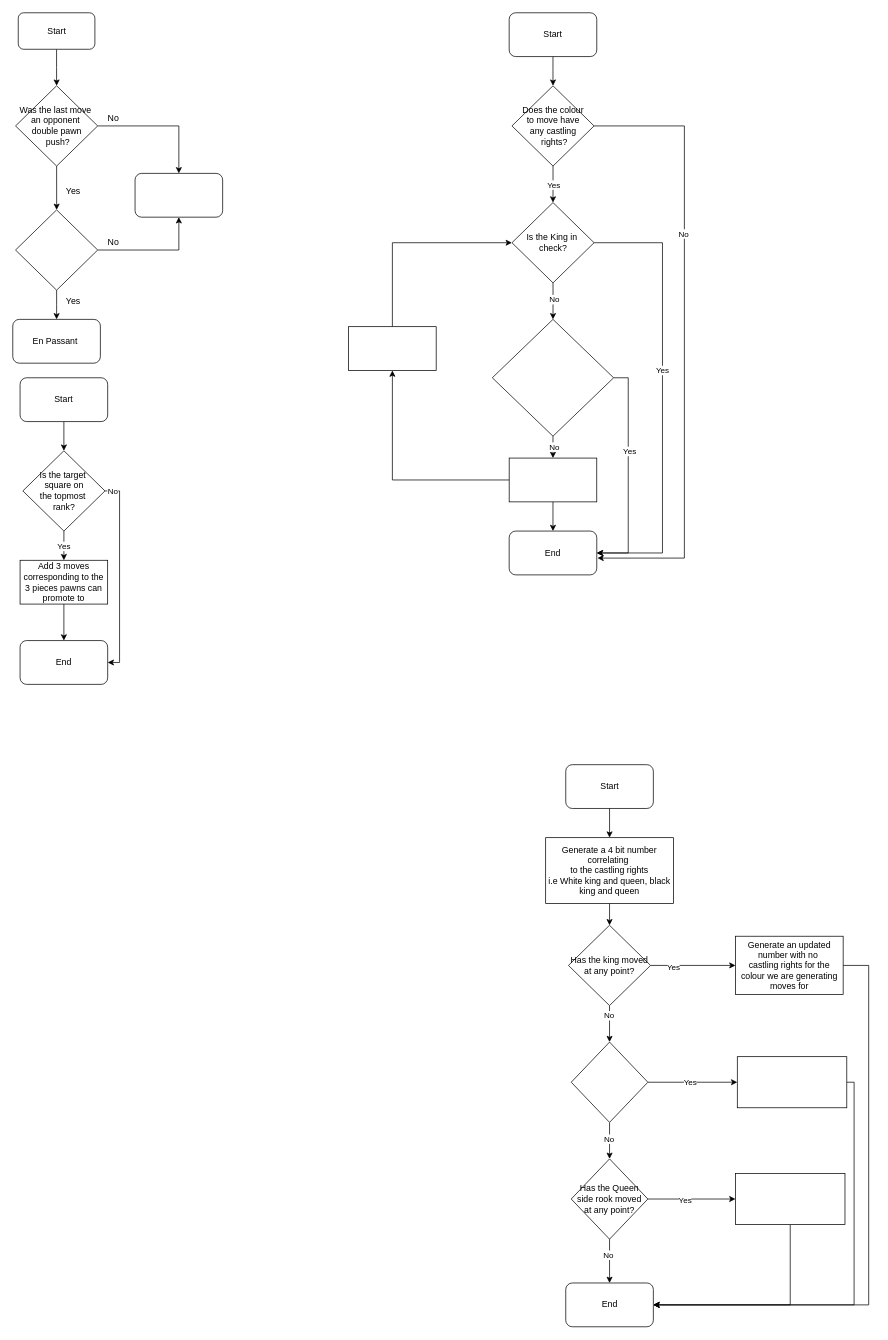
This 888x1340 diagram has some shape labels left out. The centre of each missing label's shape, as x and y in pixels:
"Append the castling move to moves" goes at pixel 552 479.
"Are the squares the squares the King will jump over/land on under attack?" goes at pixel 553 377.
"Generate an updated number with no King side Castling rights" goes at pixel 792 1082.
"Generate an updated number with no Queen side Castling rights" goes at pixel 790 1199.
"Has the King side rook moved at any point?" goes at pixel 609 1081.
"Is the target square on the same file as the push?" goes at pixel 56 249.
"No En Passant" goes at pixel 178 195.
"Repeat for the other castling side if the player has those rights" goes at pixel 392 348.
